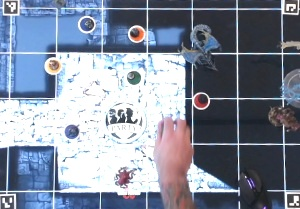blue: (75, 14, 96, 36)
green: (125, 68, 141, 84)
orange: (125, 23, 145, 45)
red: (188, 89, 209, 108)
violet: (61, 121, 81, 141)
yellow: (41, 54, 61, 75)
